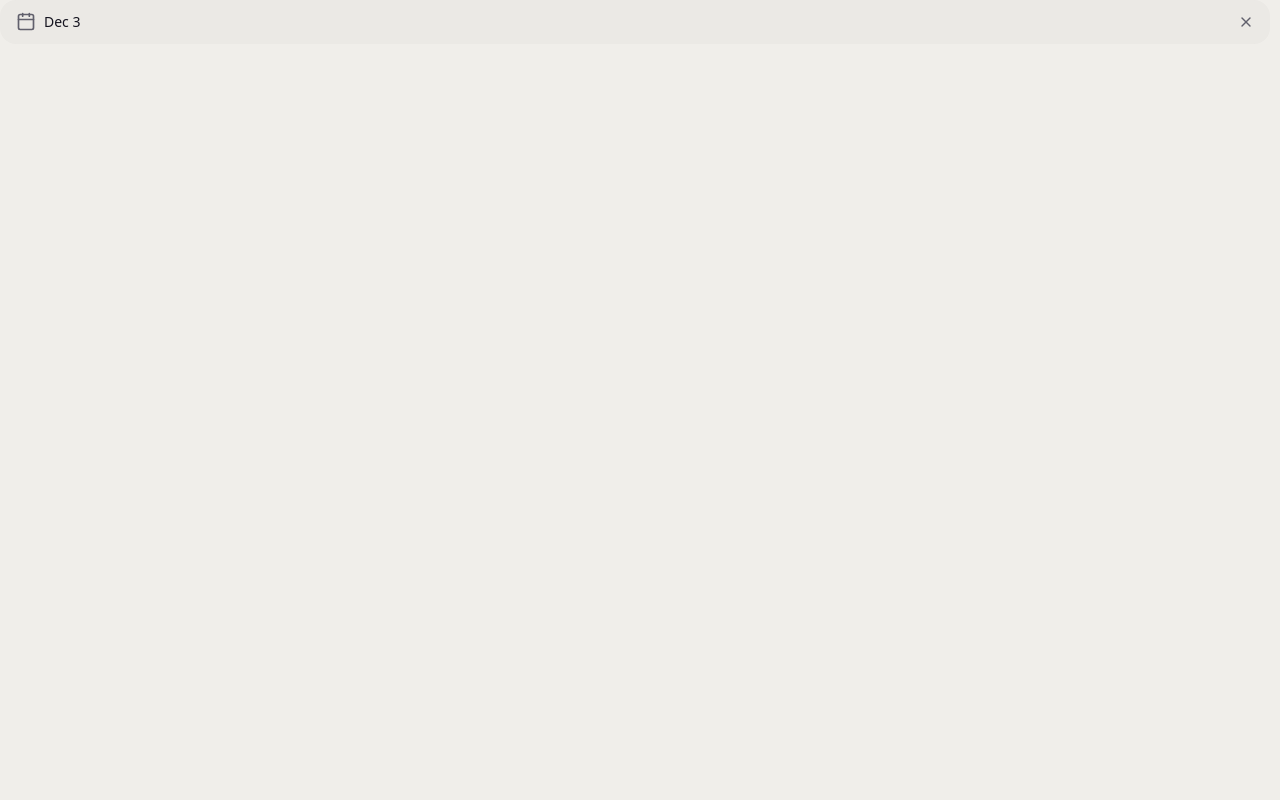
Test: CalendarPicker › reopens from the keyboard on the month of its value, with the focus on that day
Press Enter in the button "Dec 3", box [0, 0, 1270, 44]
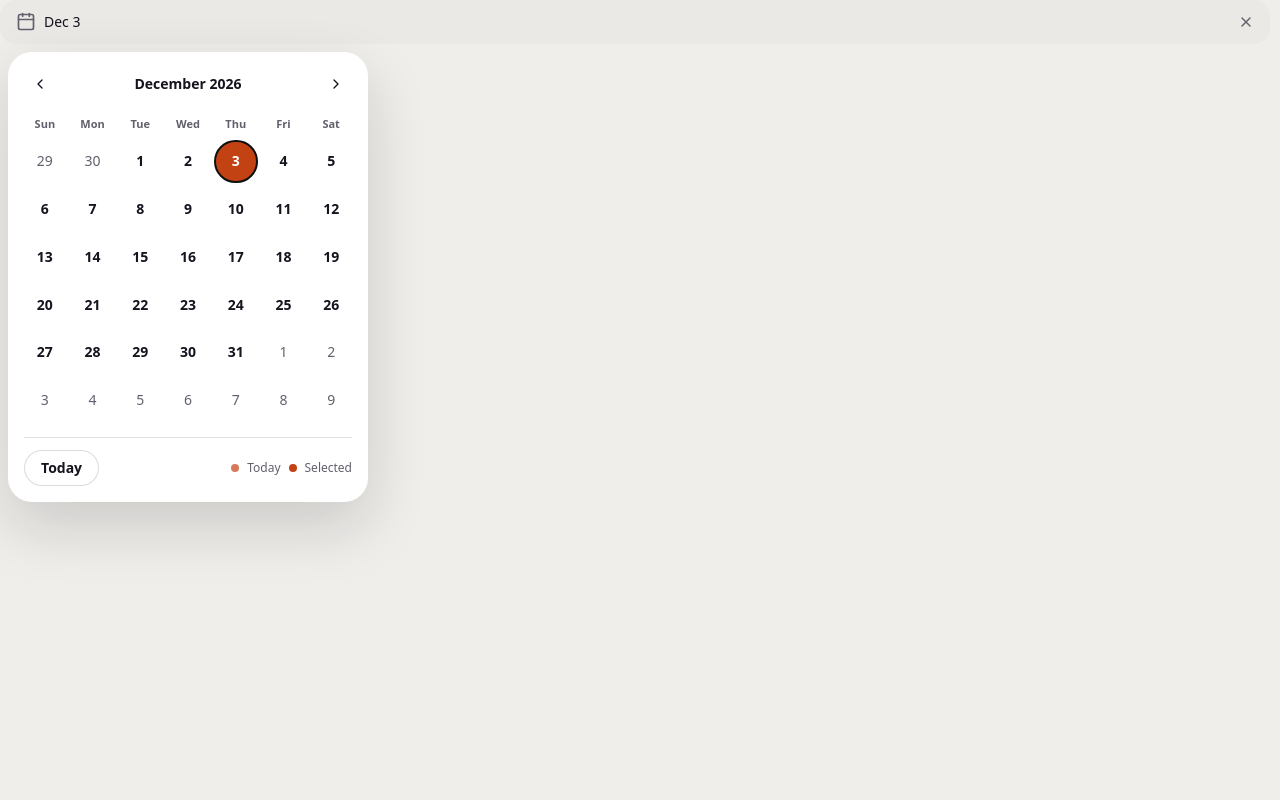
Click the button named "Next month".
click(336, 84)  # box [320, 68, 352, 100]
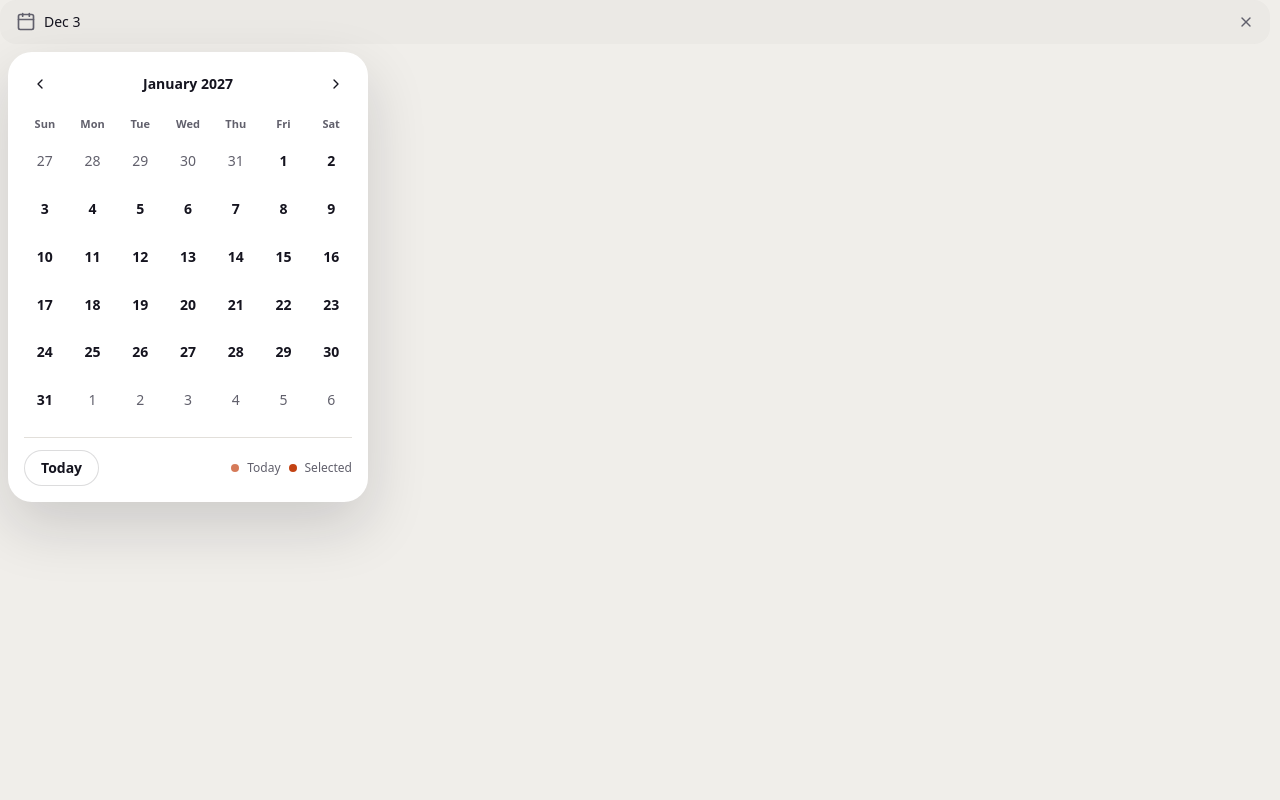
Click the button named "Next month".
click(336, 84)  # box [320, 68, 352, 100]
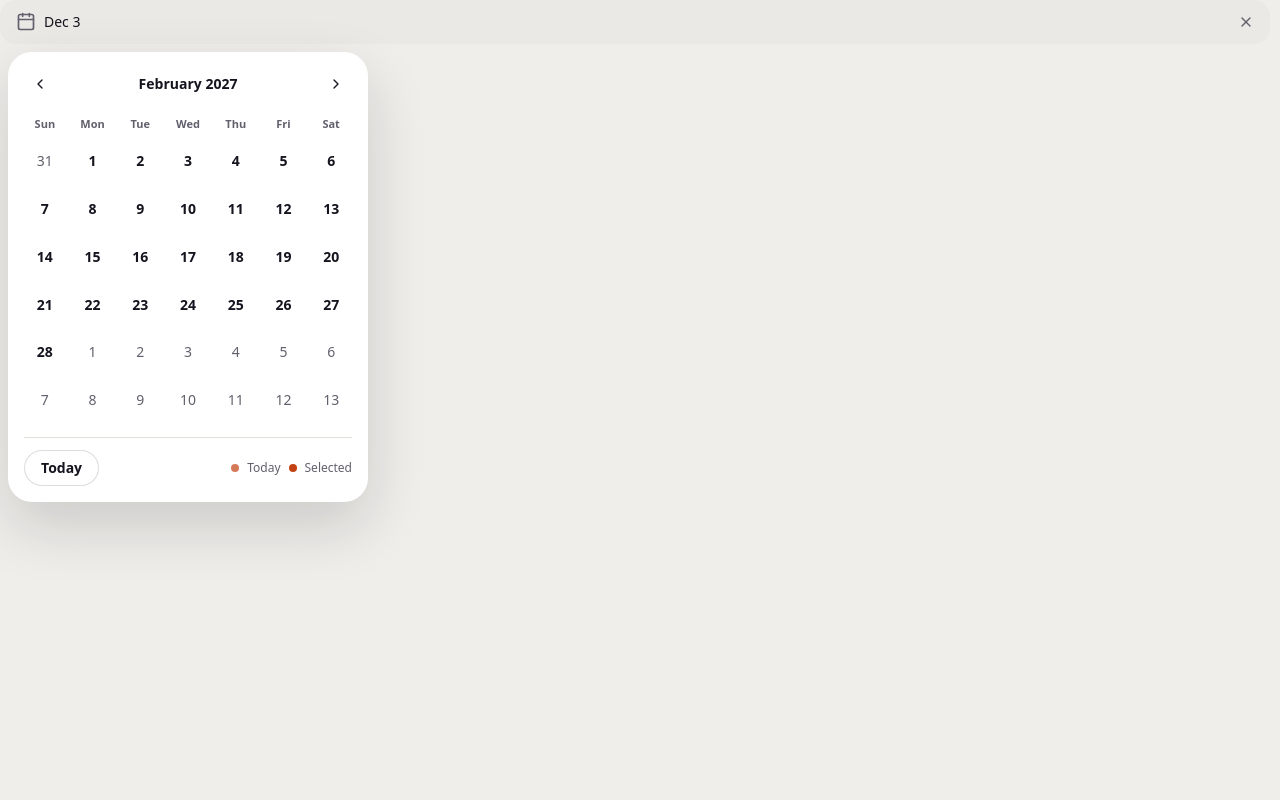
Expected: the text "February 2027" is shown, [139, 74, 237, 94]
Press Escape
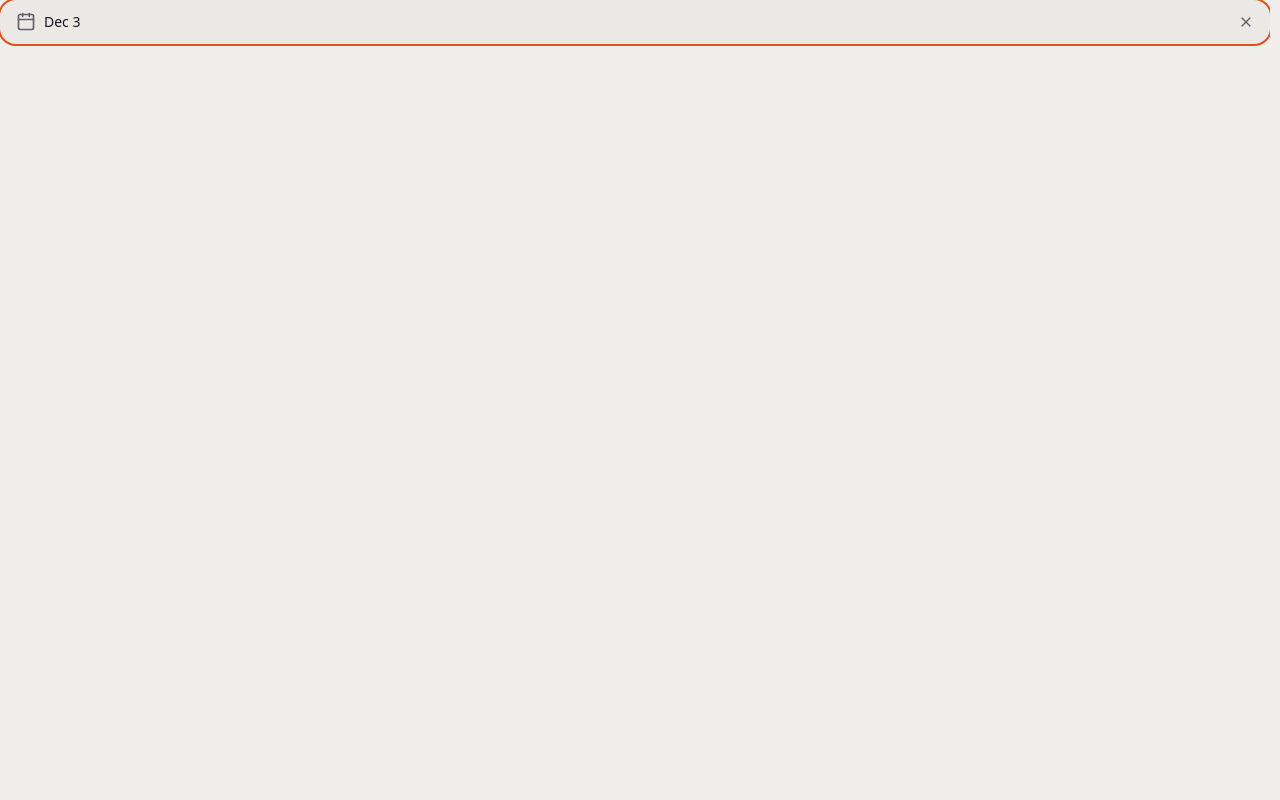
Expected: the dialog with class "z-50" is gone
Press Enter in the button "Dec 3", box [0, 0, 1270, 44]
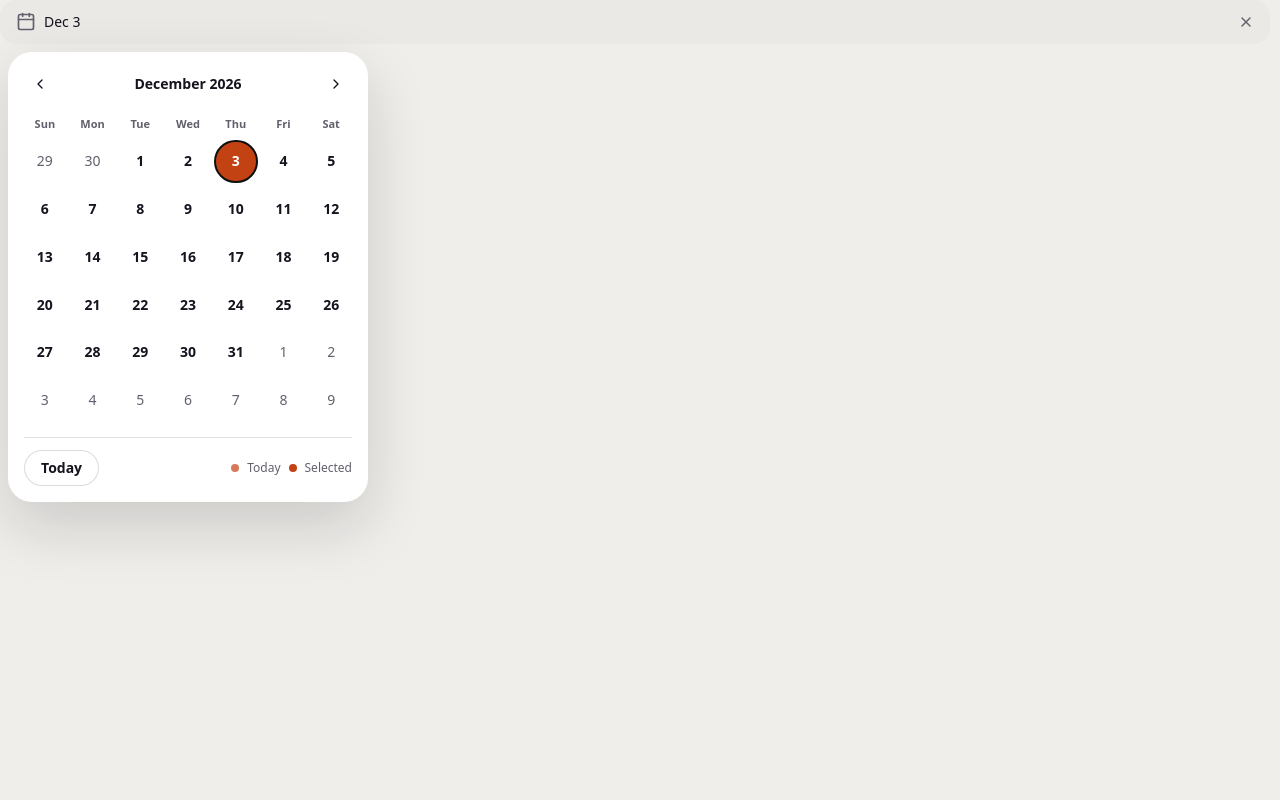
Expected: the text "December 2026" is shown, [134, 74, 242, 94]
